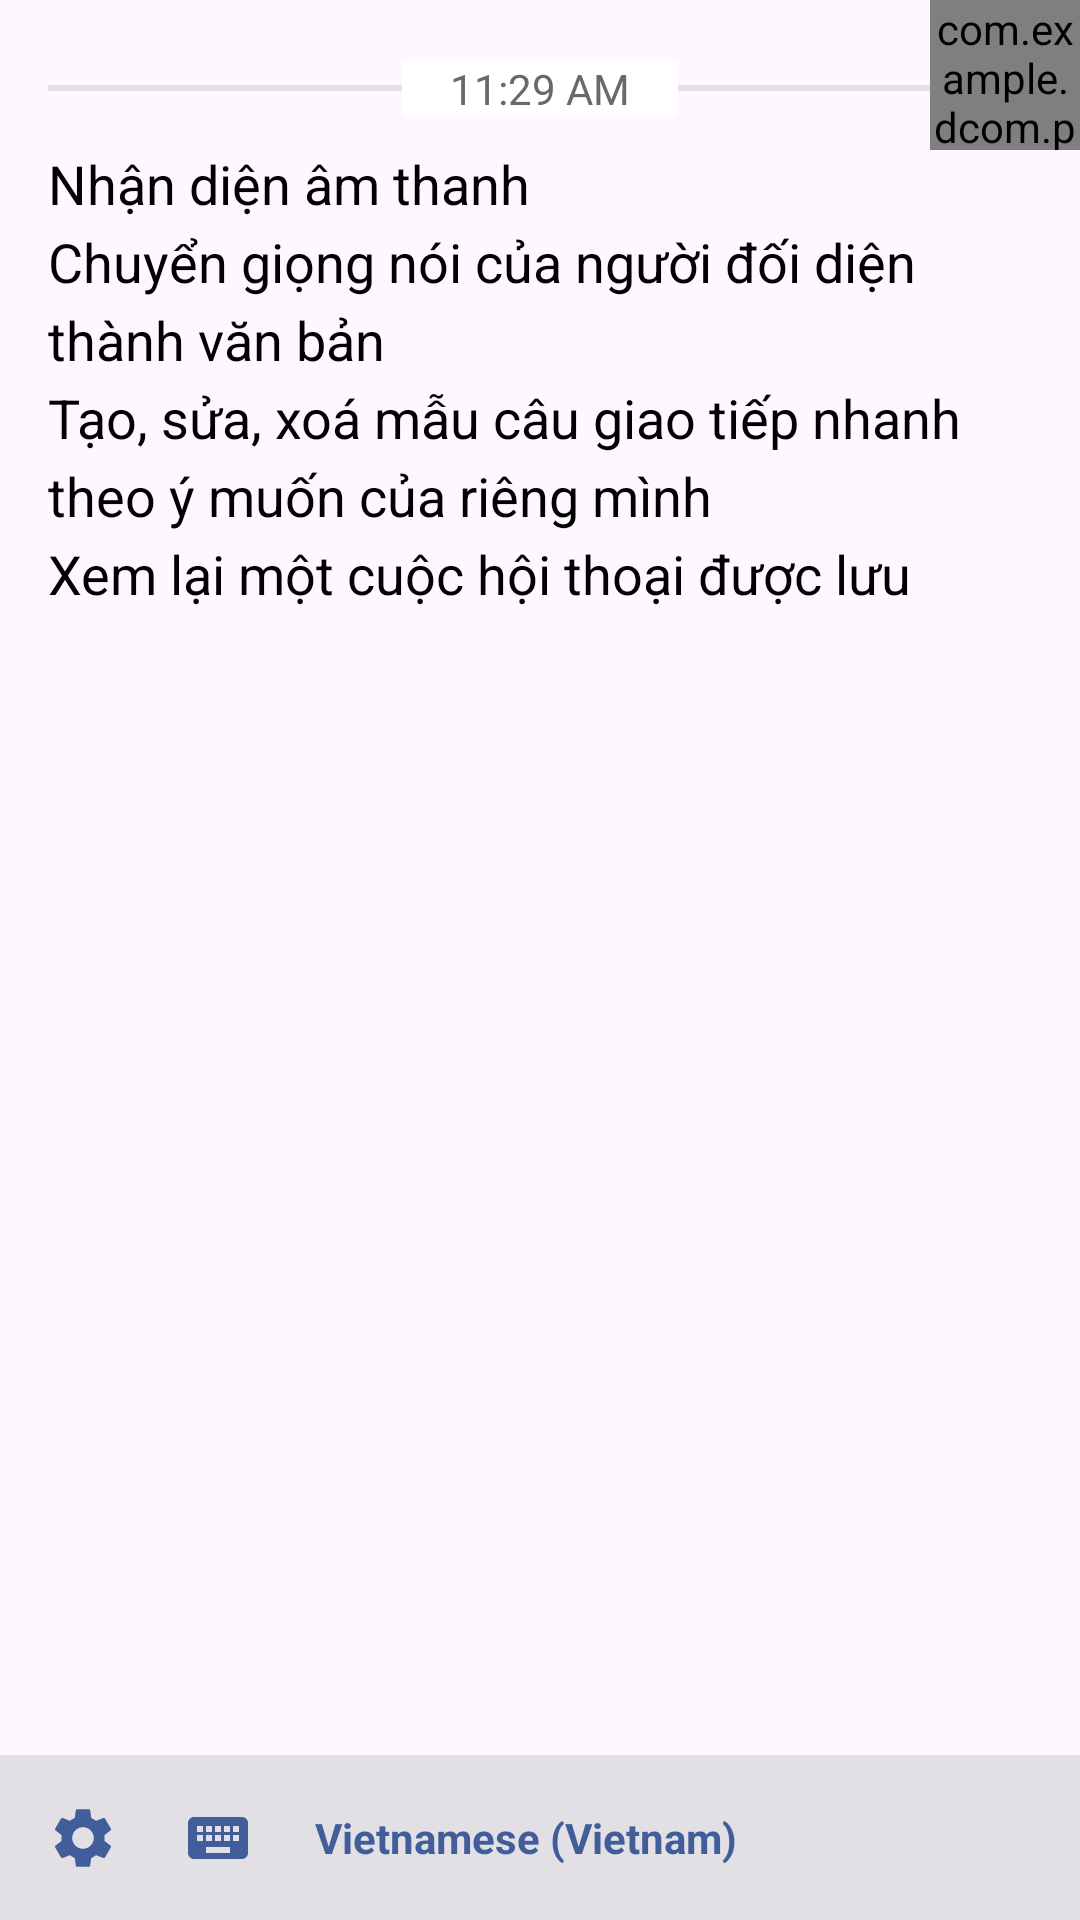

Icon click points for this 1080*1920 phone screenshot, format (x=x, y=y):
keyboard: (x=218, y=1838)
settings: (x=83, y=1838)
